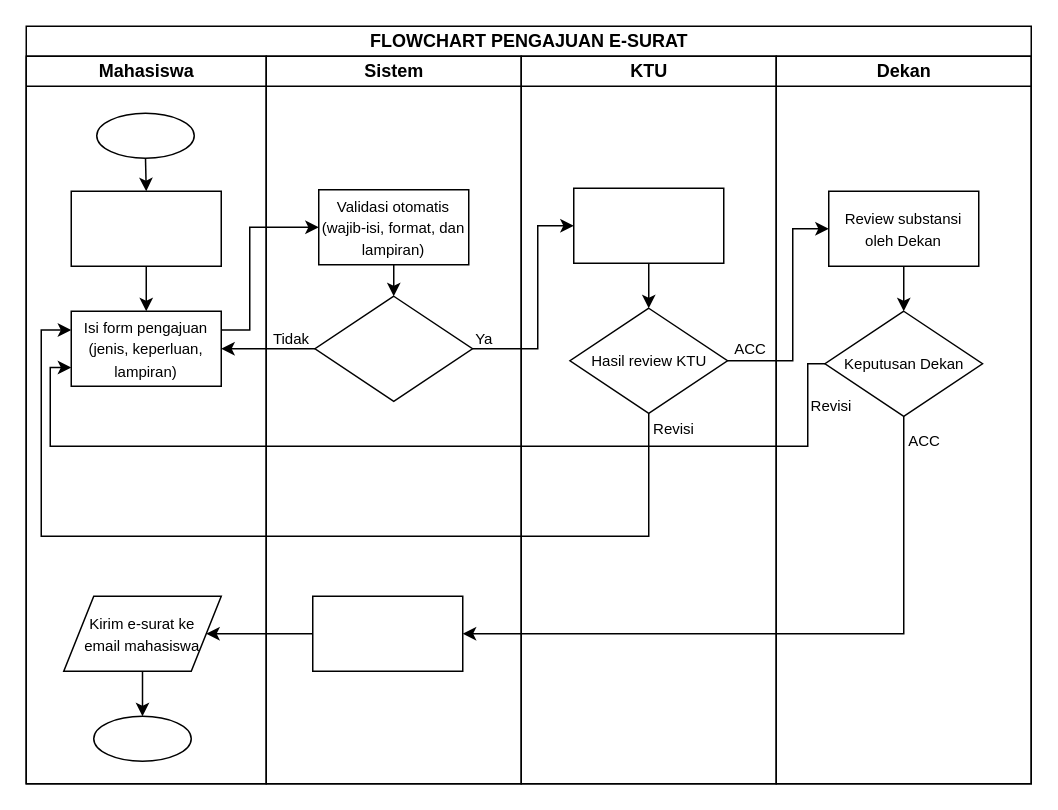
The diagram is 1058 pixels wide and 810 high, and some of its shapes have lost their labels. Here are the shapes that lost their labels. From the top down, the centre of each, then its label:
At point (144, 135): "Mulai".
At point (145, 228): "Memilih jenis surat untuk diajukan".
At point (648, 225): "Review Kelengkapan dan keabsahan".
At point (393, 348): "Lengkap dan Valid".
At point (387, 633): "Generate E-surat ber-TTD QR".
At point (141, 738): "Selesai".
